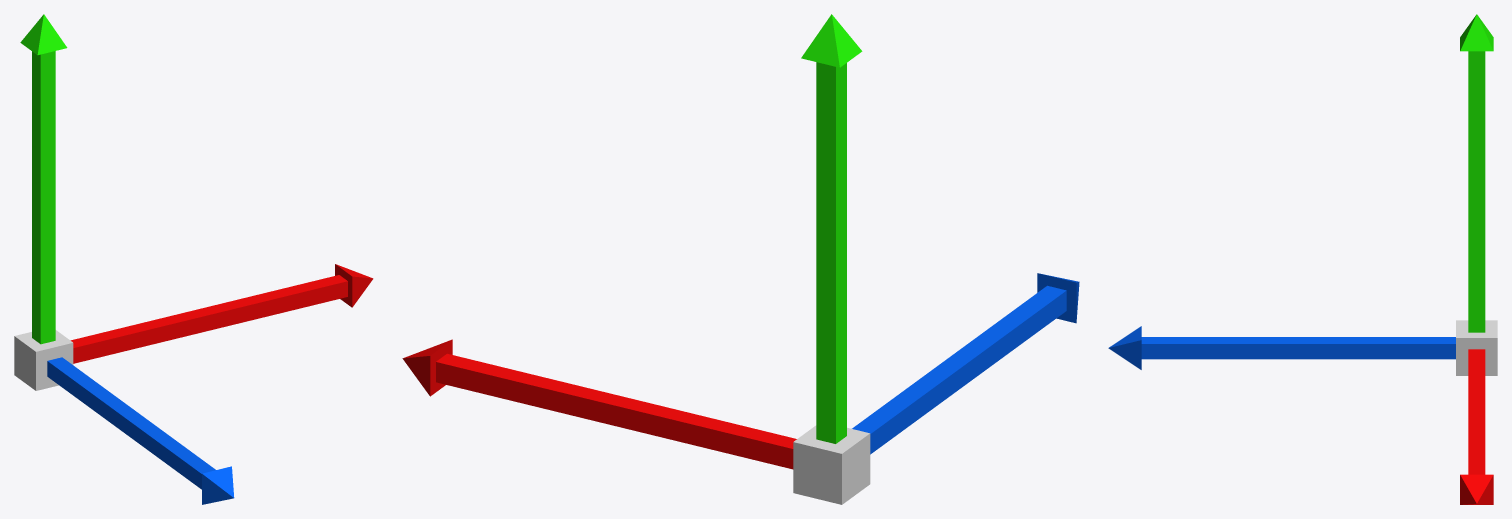
The model's file is axis.gltf.
3 renders of one model, left to right at view 1: azimuth 30°, elevation 25°; view 2: azimuth 150°, elevation 25°; view 3: azimuth 270°, elevation 25°, orthographic. The views are drawn at different scales.
Parts seen in each view (by area): view 1: y, x, z, origin; view 2: y, x, z, origin; view 3: z, y, x, origin.
Part boxes in pixels (x1,y1,x2,y2): y: [20, 14, 67, 344]; x: [70, 264, 373, 363]; z: [47, 357, 234, 504]; origin: [14, 330, 73, 390]; y: [801, 14, 862, 443]; x: [402, 339, 796, 469]; z: [852, 273, 1079, 454]; origin: [793, 425, 870, 504]; z: [1108, 326, 1455, 369]; y: [1460, 14, 1493, 332]; x: [1460, 349, 1493, 504]; origin: [1456, 320, 1497, 375].
Bounding box in the file's own units: 2.33 × 2.33 × 2.33.
